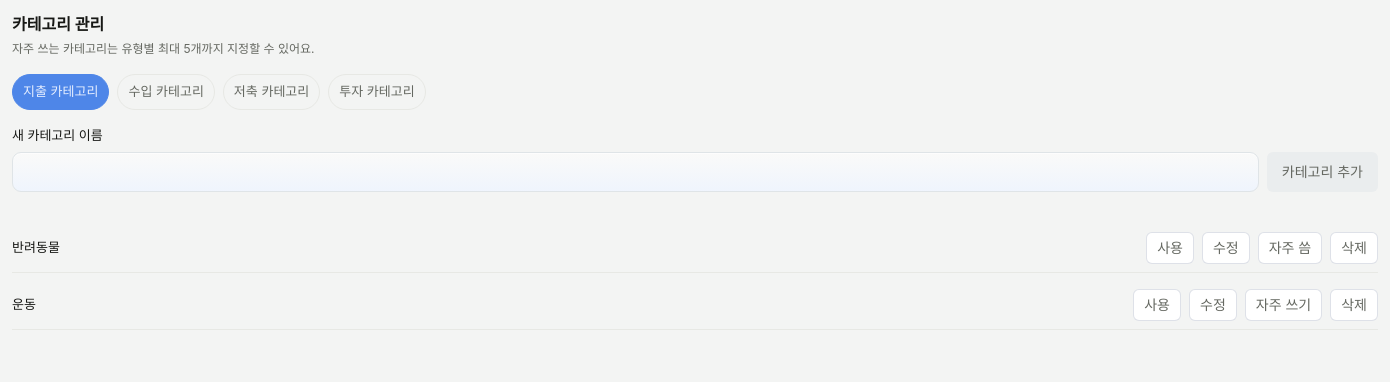
Test case: CategoryManager › validates an empty new category name before adding
Click the button "카테고리 추가".
click(1322, 172)  # box [1267,152,1378,192]
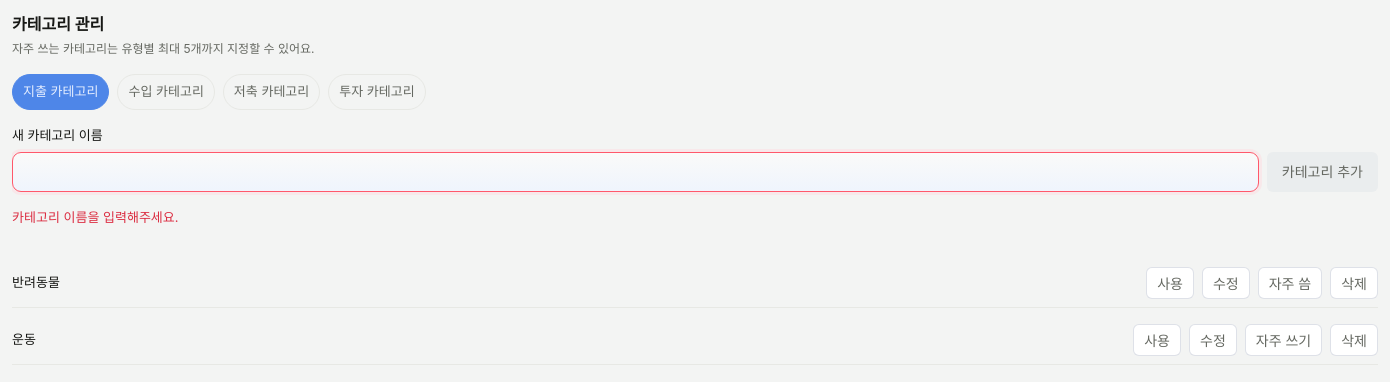
Expected: the text "카테고리 이름을 입력해주세요." is shown, [12,208,178,224]
